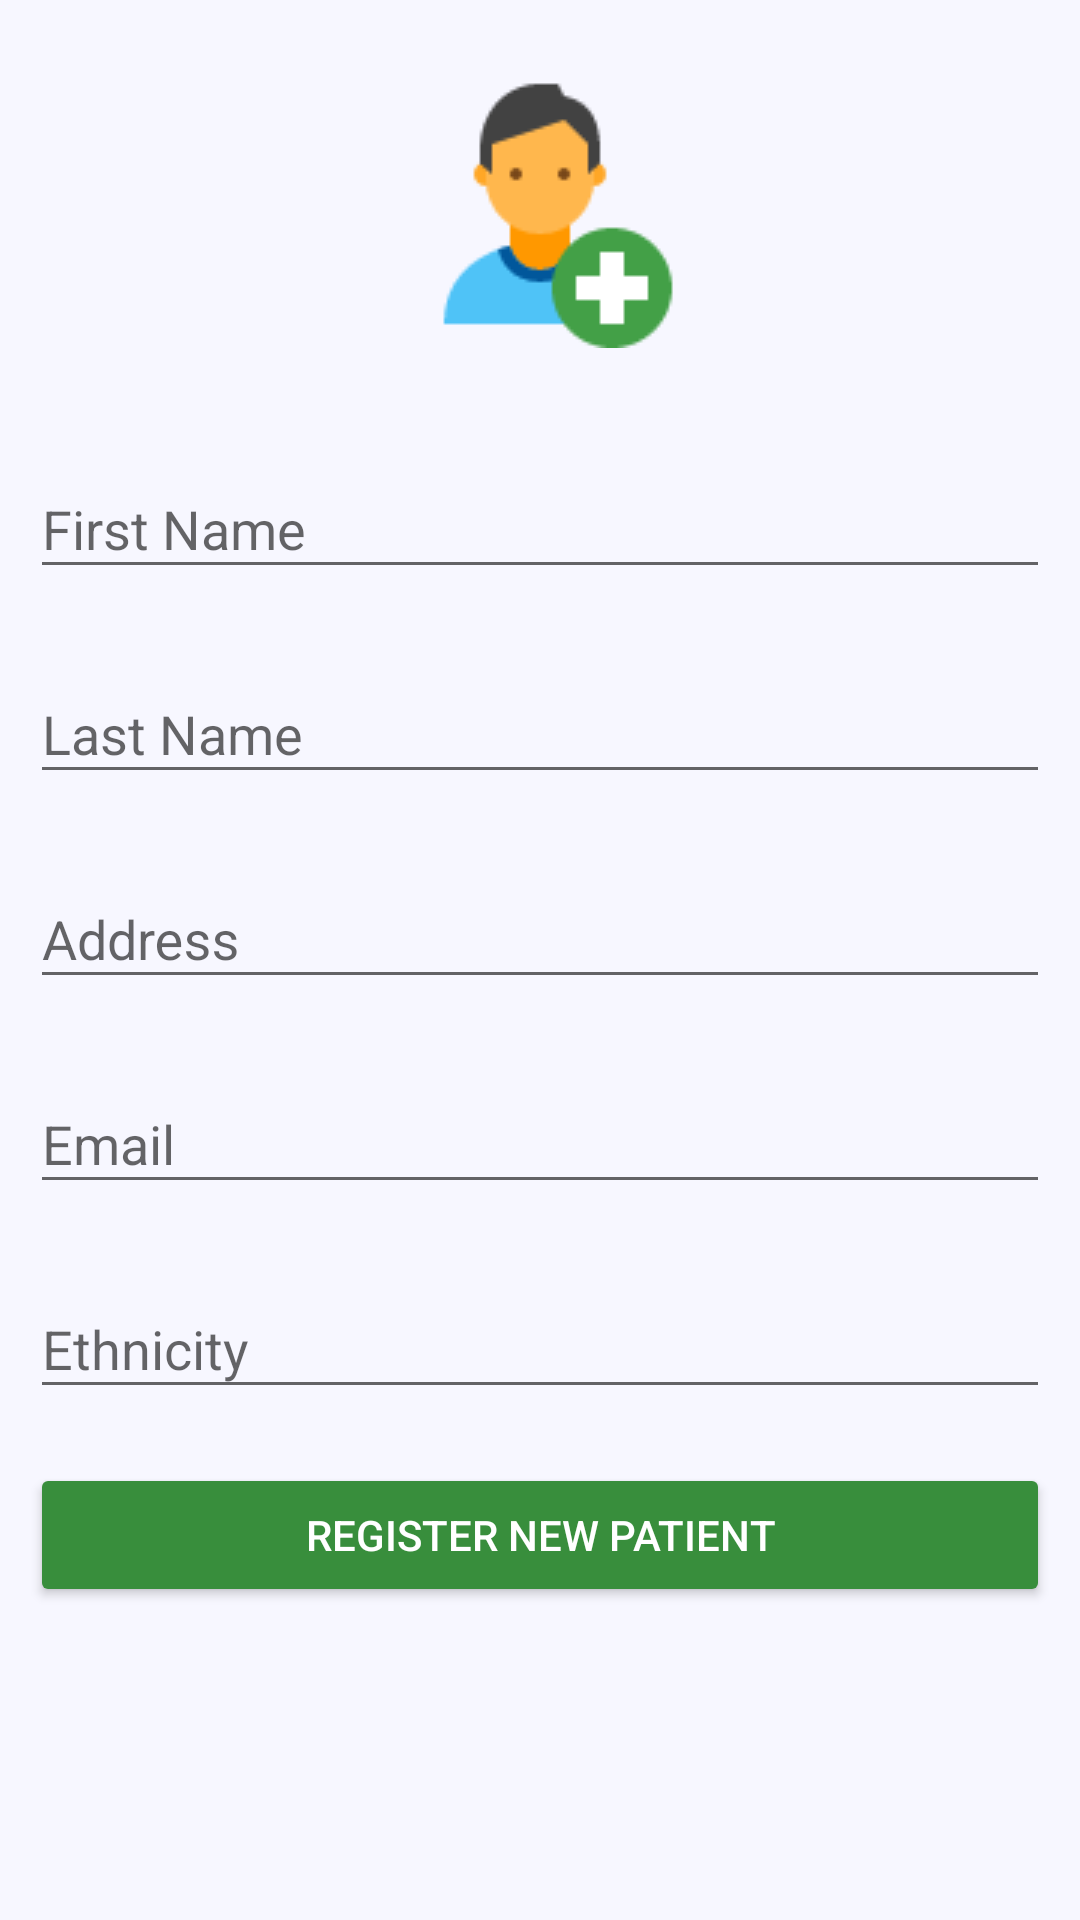

Icons on this 1080px×1920px Android screen, each with the point to tap as (x=x, y=y):
register user: (x=558, y=215)
